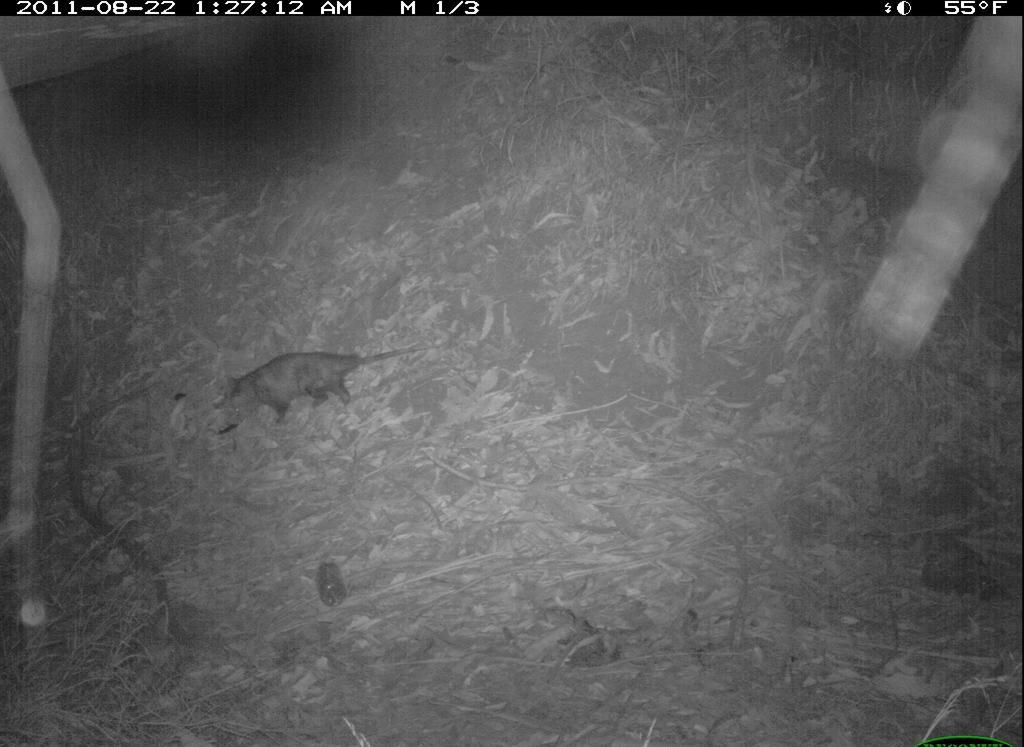opossum: (221, 335, 460, 434)
